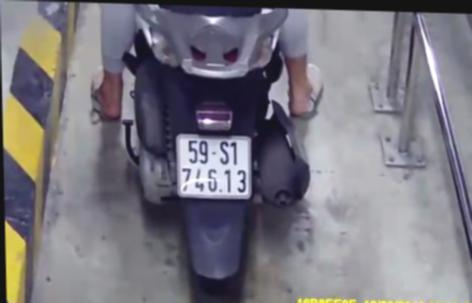License_Plate: (170, 130, 257, 205)
